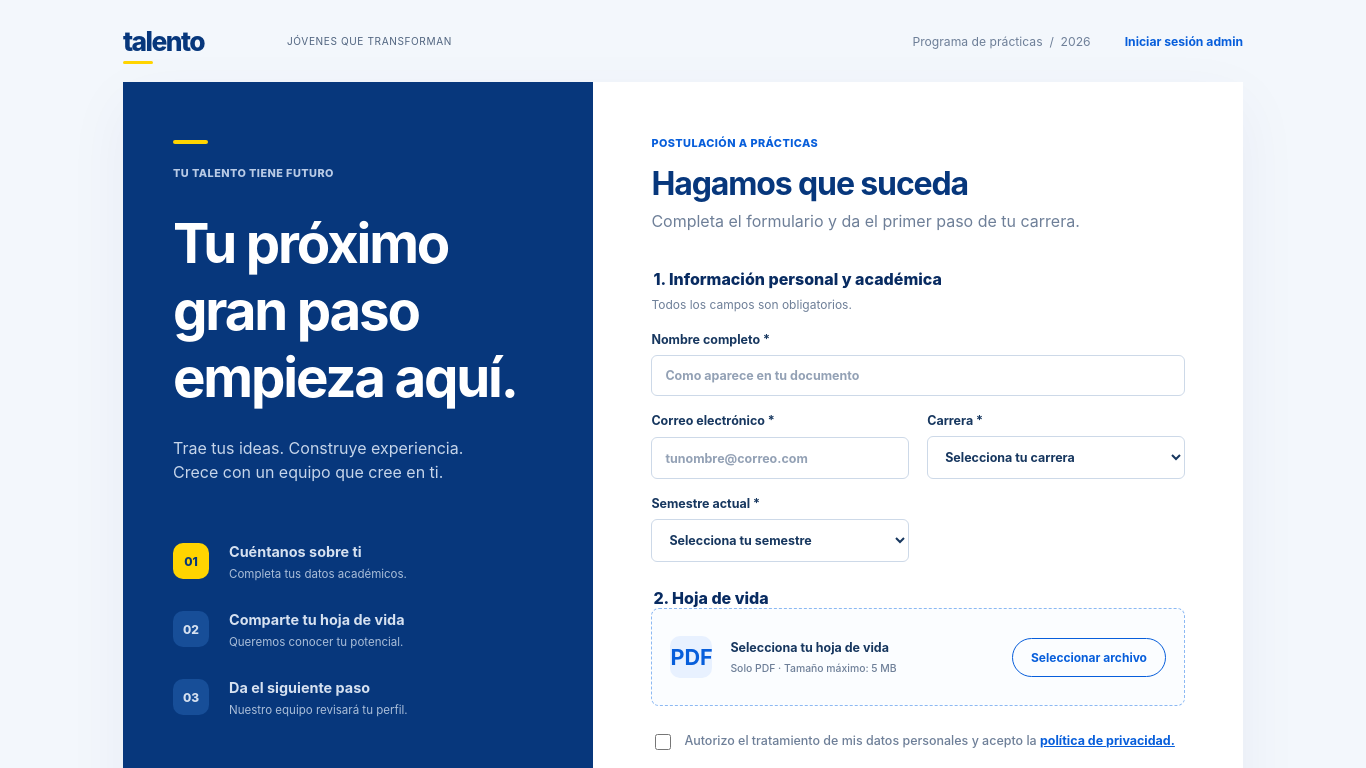
Test: App › shows the CV download action in the applicant detail
The width and height of the screenshot is (1366, 768).
Click the button "Iniciar sesión admin". click: (1184,41)
box: [1125,24,1243,58]
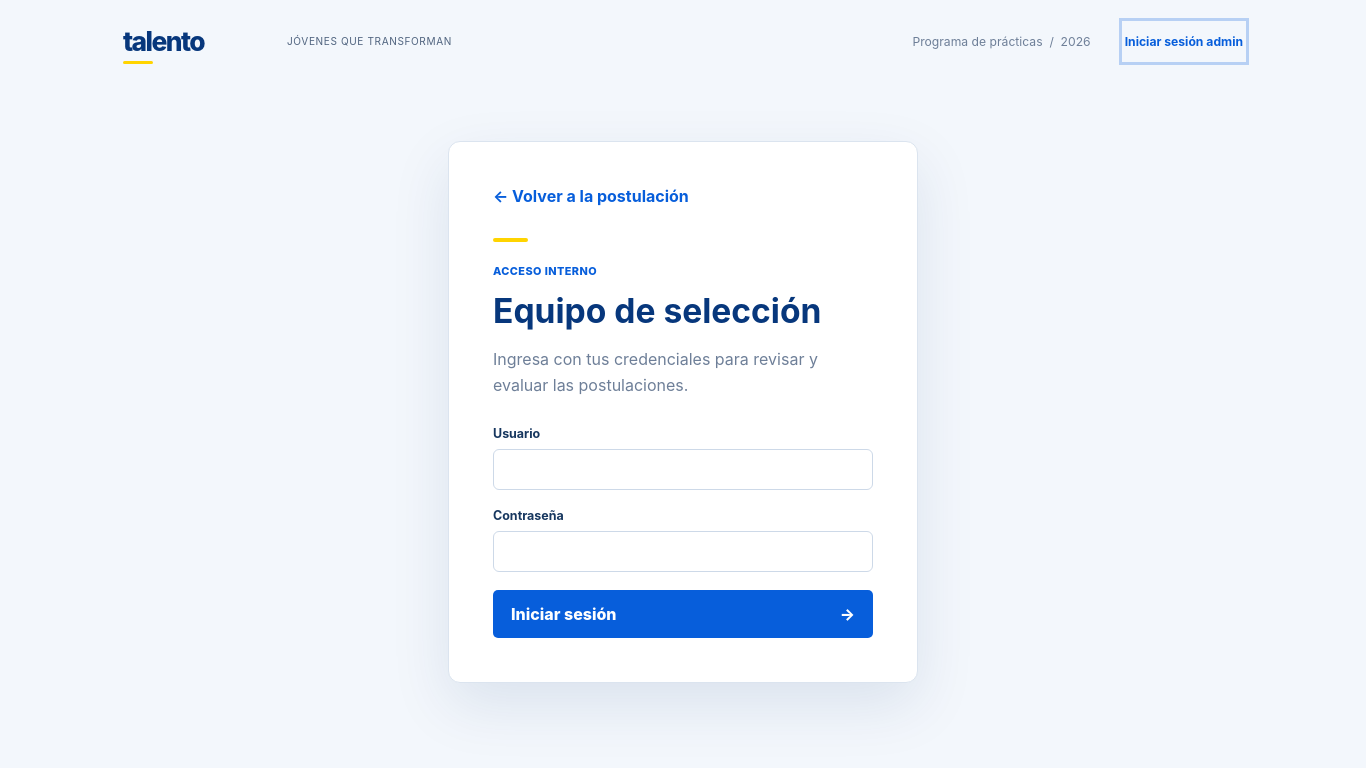
Type "analista" into the field labelled "Usuario". click: (683,470)
box: [493,449,873,490]
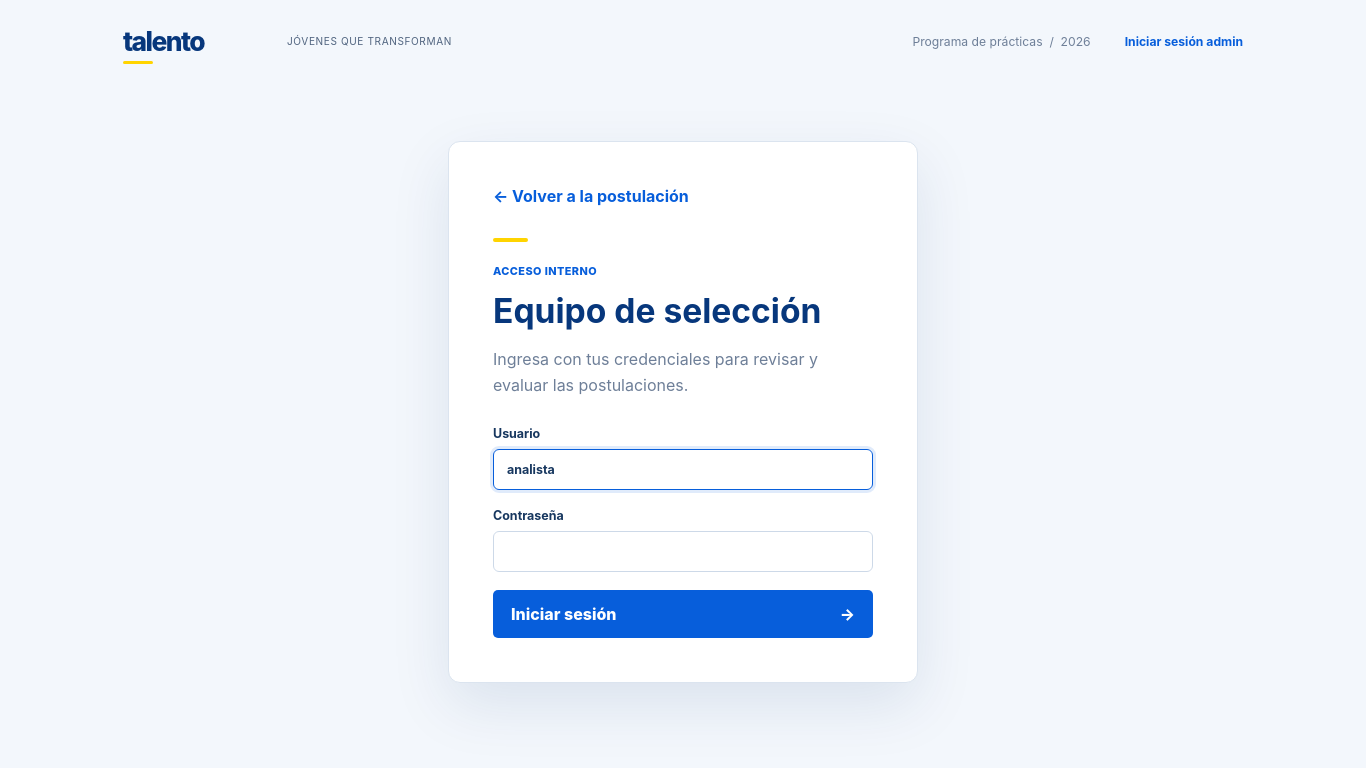
Type "secreto" into the password field labelled "Contraseña". click: (683,552)
box: [493,531,873,572]
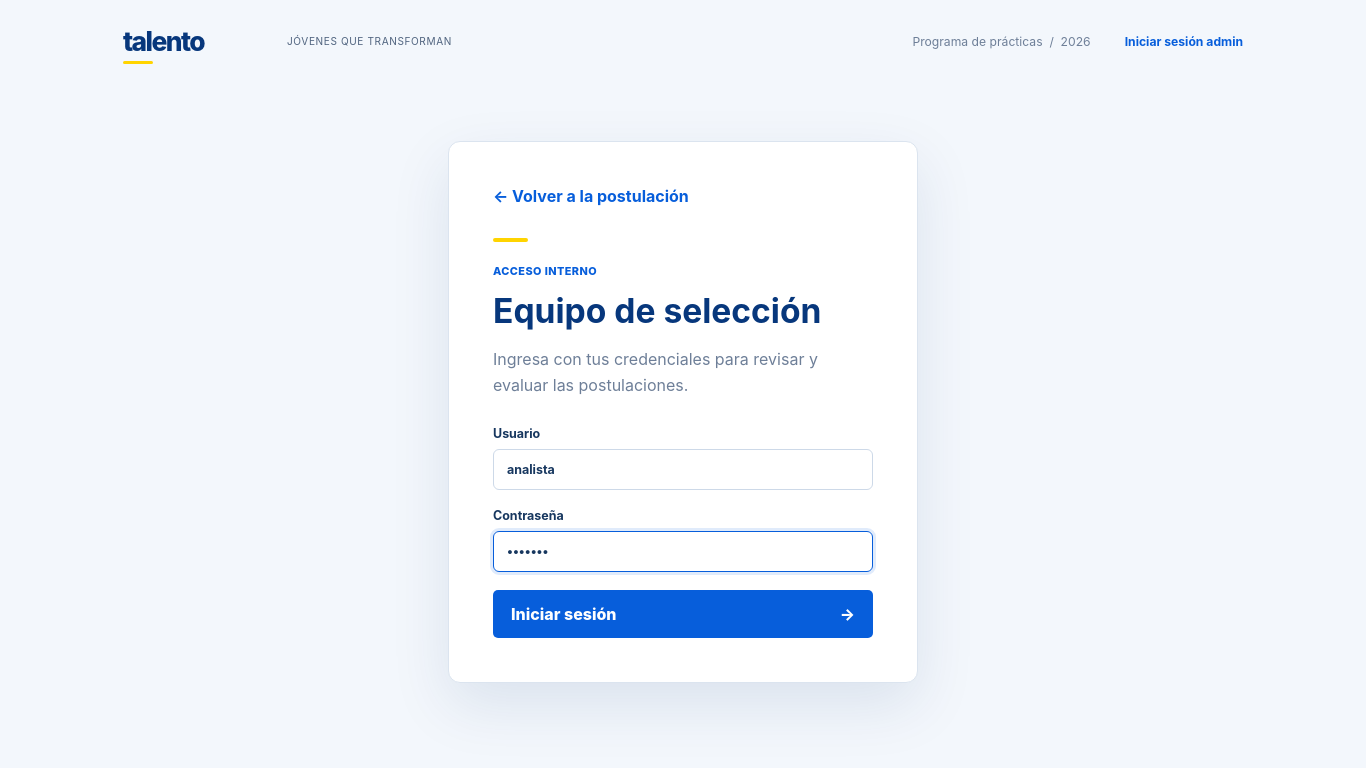
Click the button "Iniciar sesión →". click: (564,614)
box: [493,590,873,638]
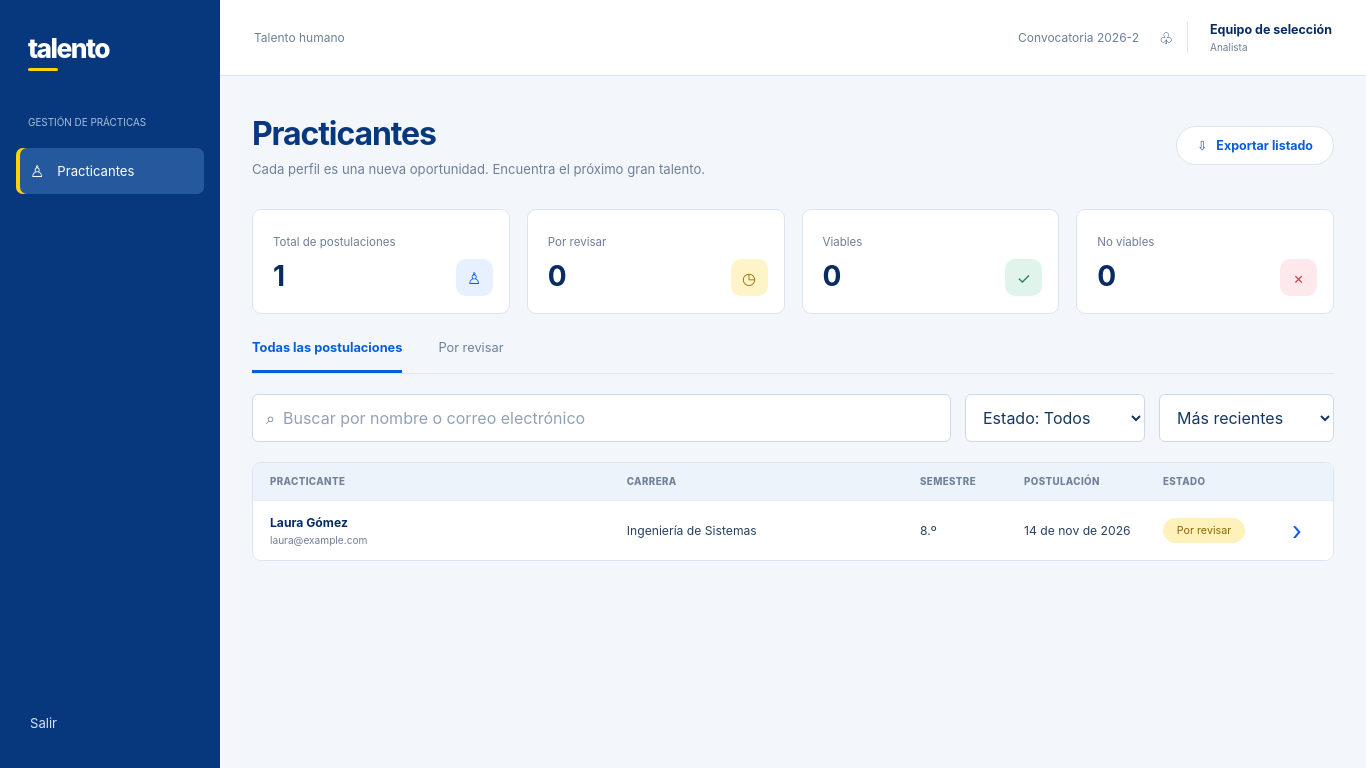
Click the button with aria-label "ver perfil de laura gómez". click: (309,522)
box: [253,500,1333,560]
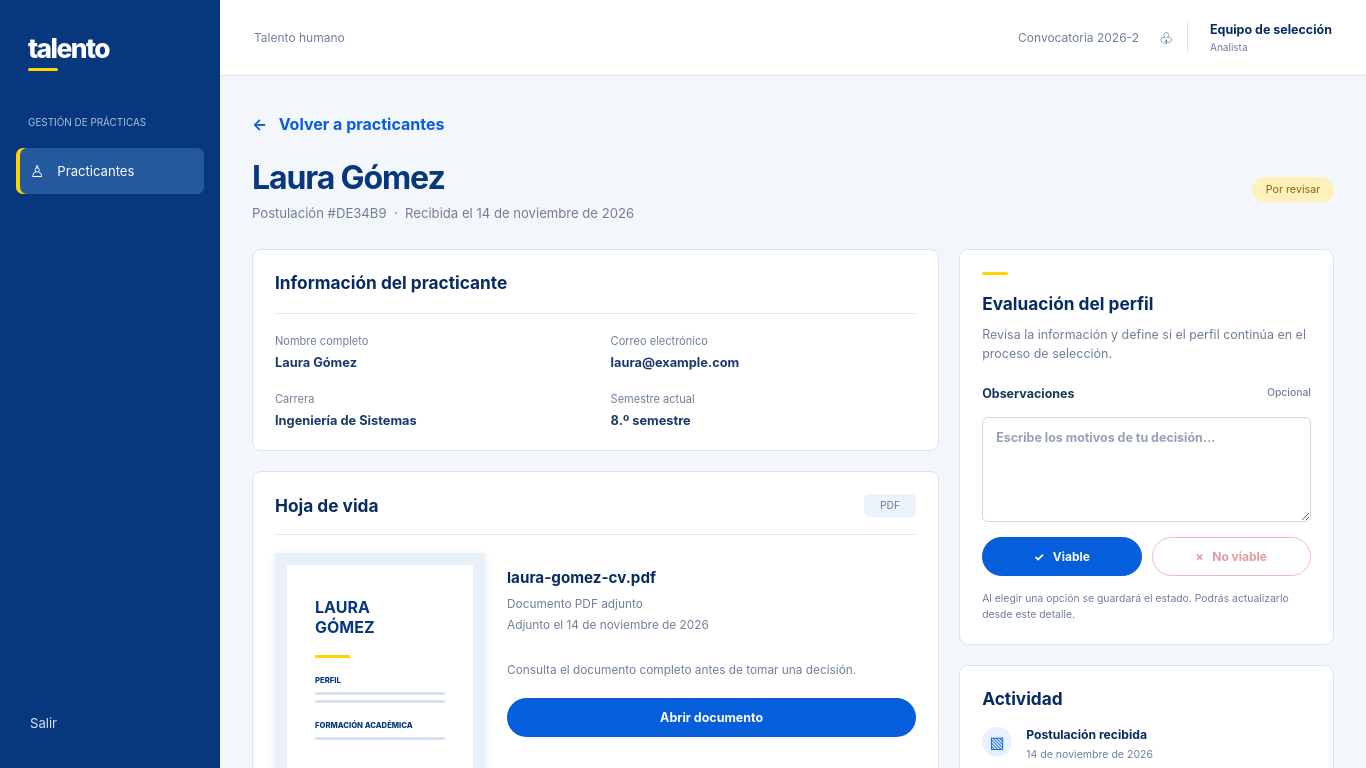
Expected: the button with aria-label "descargar cv" reads "Abrir documento", [507,698,916,737]
